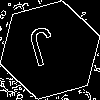J: (25, 25, 62, 77)
